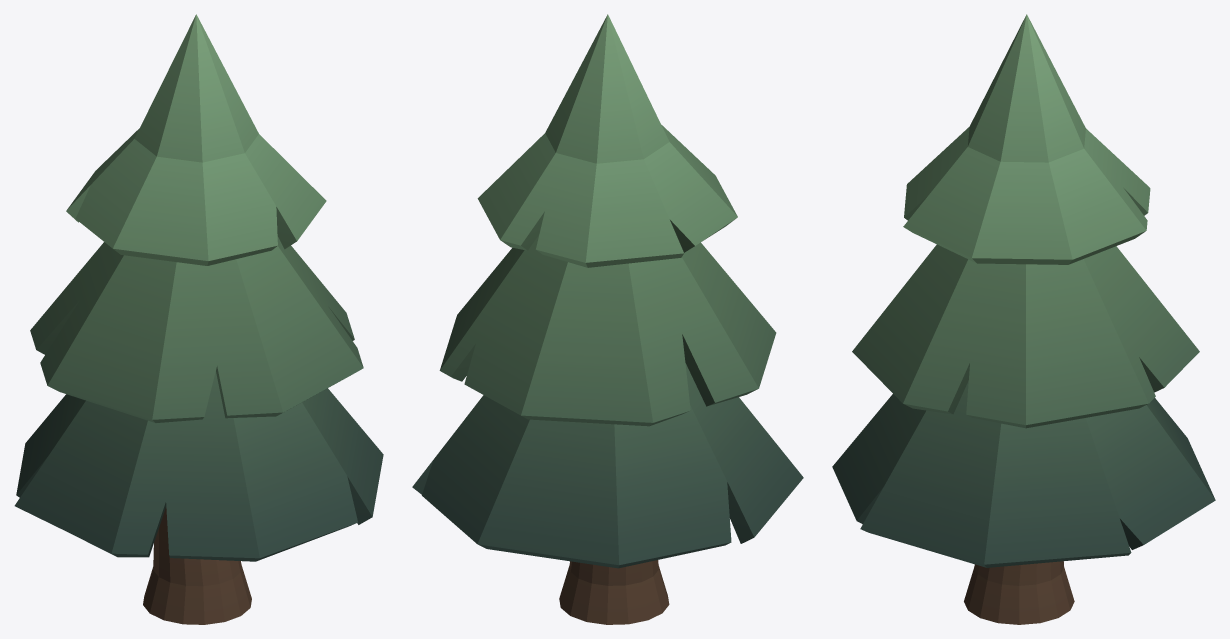
Rendered from Tree3.fbx.
3 renders of one model, left to right at view 1: azimuth 30°, elevation 25°; view 2: azimuth 150°, elevation 25°; view 3: azimuth 270°, elevation 25°, orthographic.
Visible parts, largest first — view 1: tree3; view 2: tree3; view 3: tree3.
Boxes of the visible parts, <box> form: tree3: <box>14,14,383,624</box>; tree3: <box>412,14,803,624</box>; tree3: <box>832,14,1215,624</box>.
Size of the model in its own units: 447 by 758 by 447.
